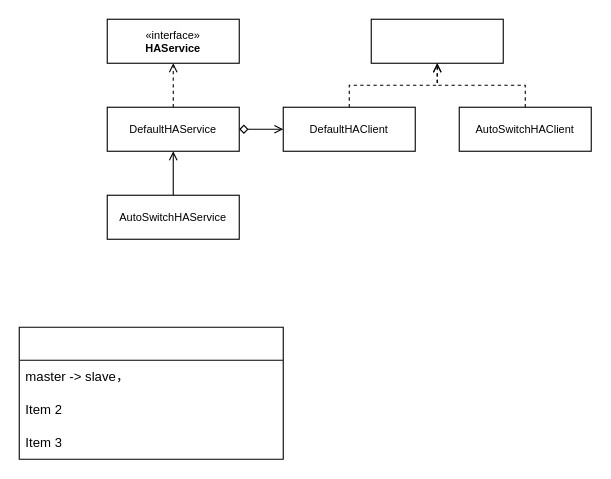
Some shapes in this 611 by 479 pixel diagram are drawn without their labels. The box of each missing label's shape, as (x1, y1, x2, y2) in pixels:
«interface» HAClient: (370, 18, 503, 63)
高可用要点: (18, 326, 283, 459)
